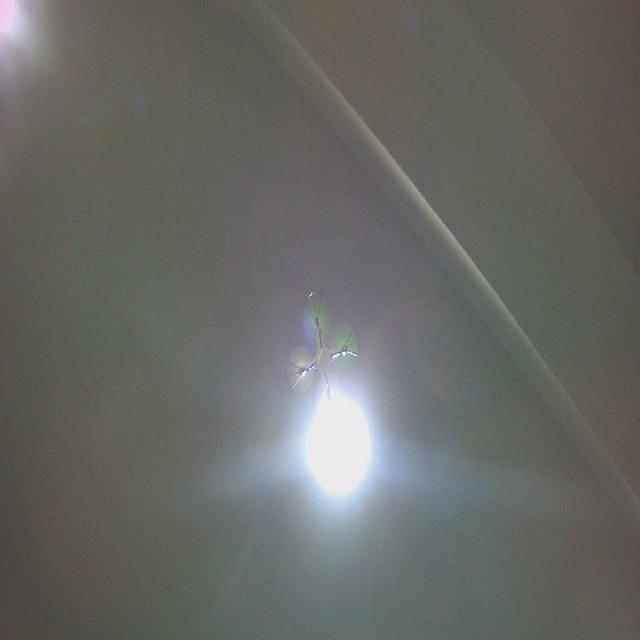drone: (285, 288, 363, 428)
